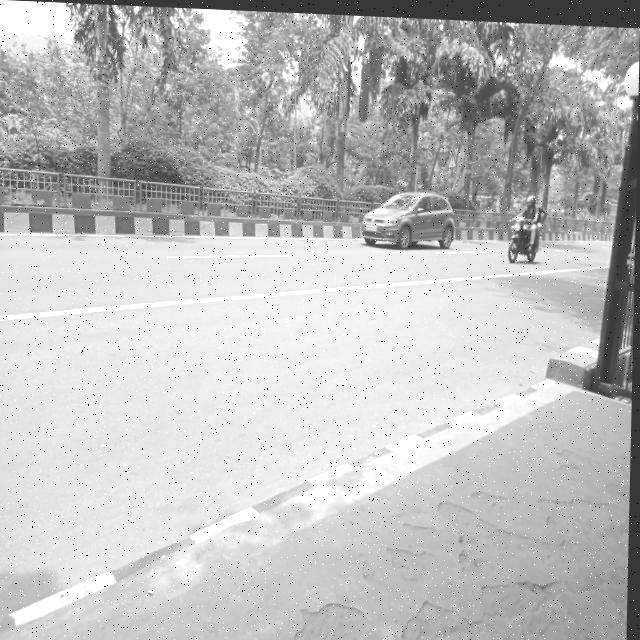bike: (503, 210, 553, 271)
car: (358, 175, 462, 259)
